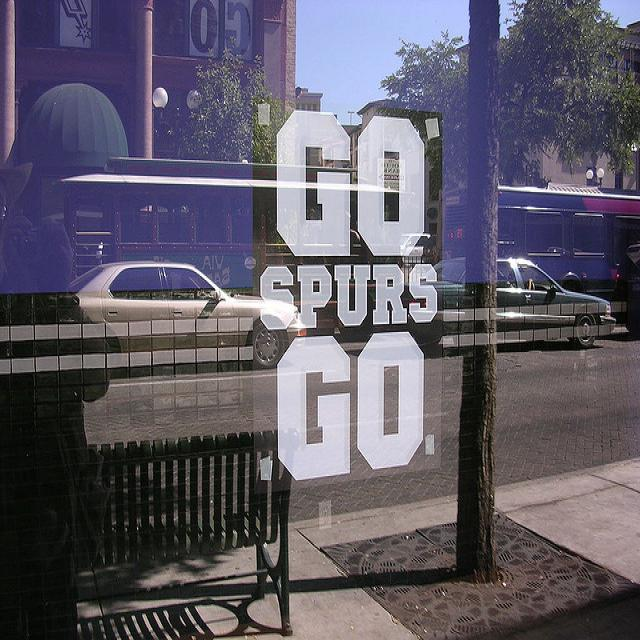Vehicle: (65, 160, 428, 296), (70, 262, 306, 378), (374, 256, 623, 348), (441, 185, 639, 298)
